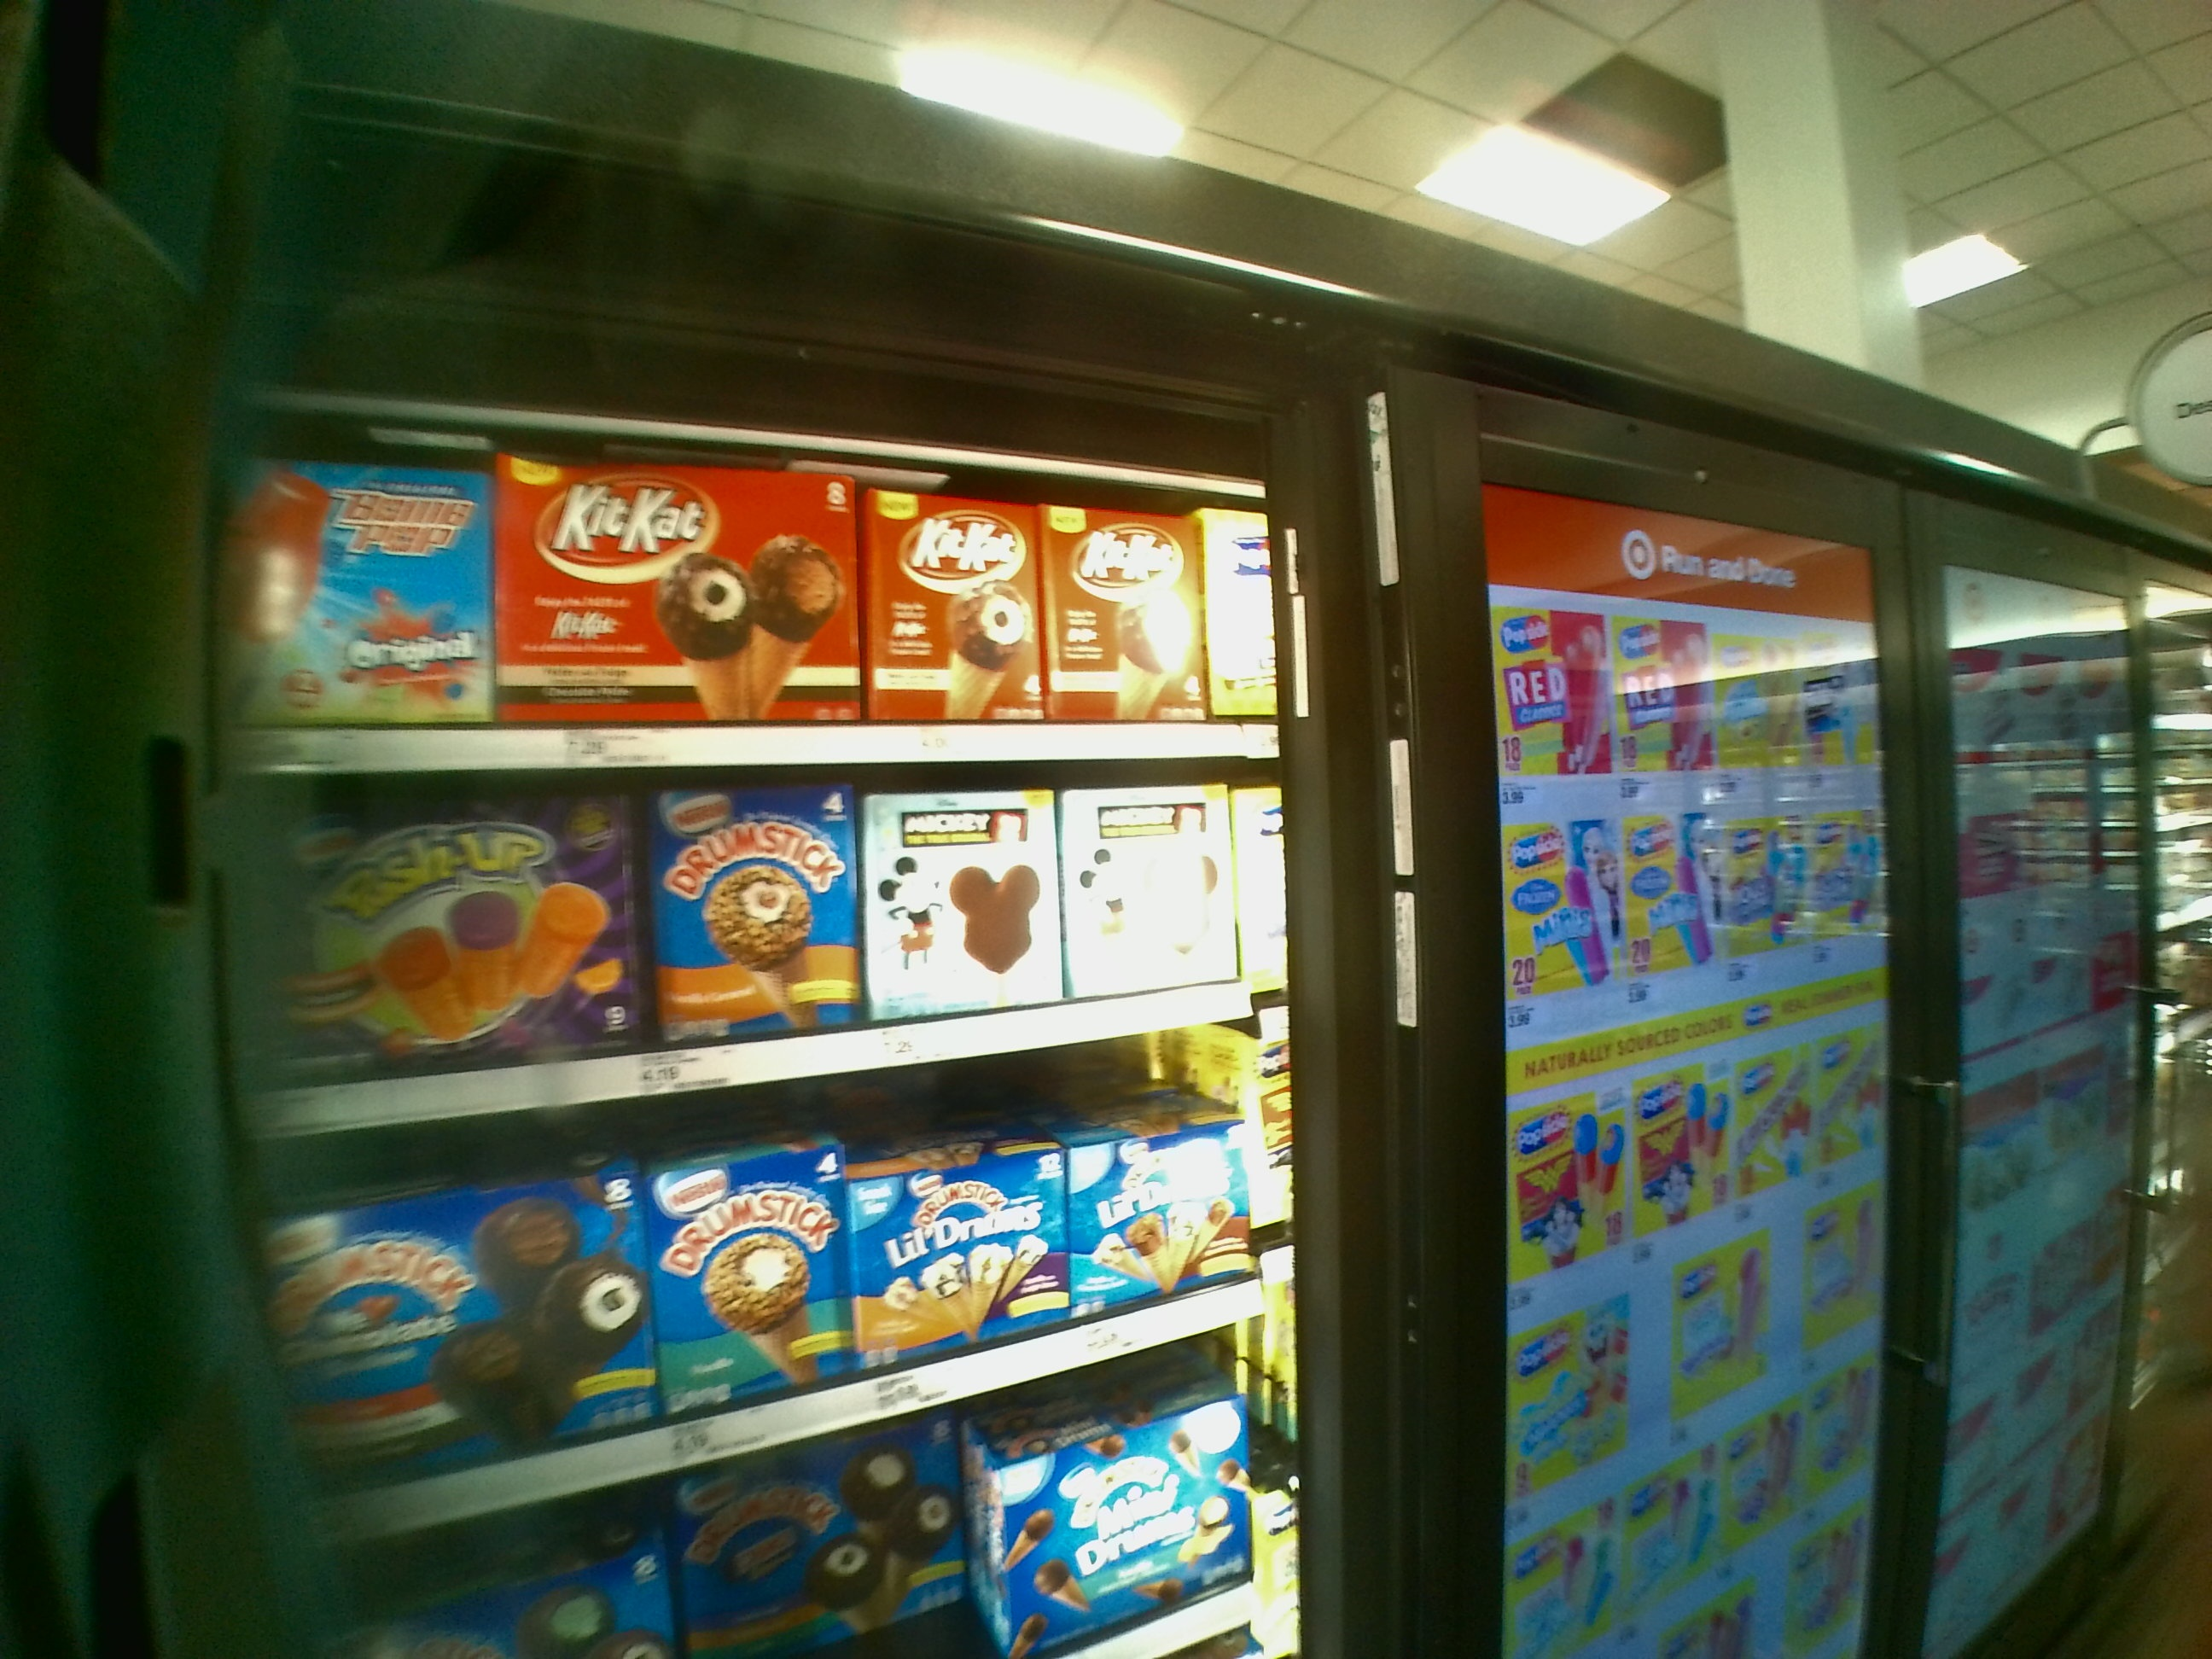shelf: (228, 415, 1287, 770), (286, 1068, 1282, 1415), (246, 777, 1280, 1084)
